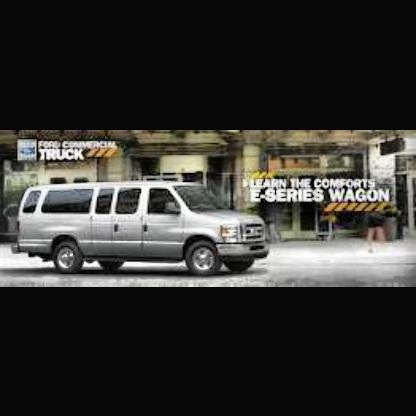Ford E-Series Wagon Van 2012: (18, 184, 272, 274)
